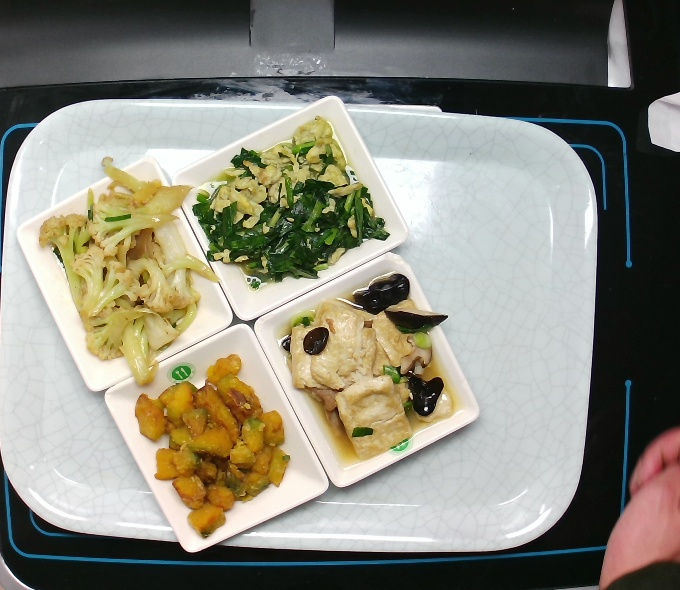wcq-DanHuangNanGua: (118, 346, 296, 544)
wcq-JiaChangDouFu: (282, 267, 458, 458)
wcq-JiuCaiJiDan: (183, 114, 393, 290)
wcq-QiuCai: (28, 145, 222, 385)
